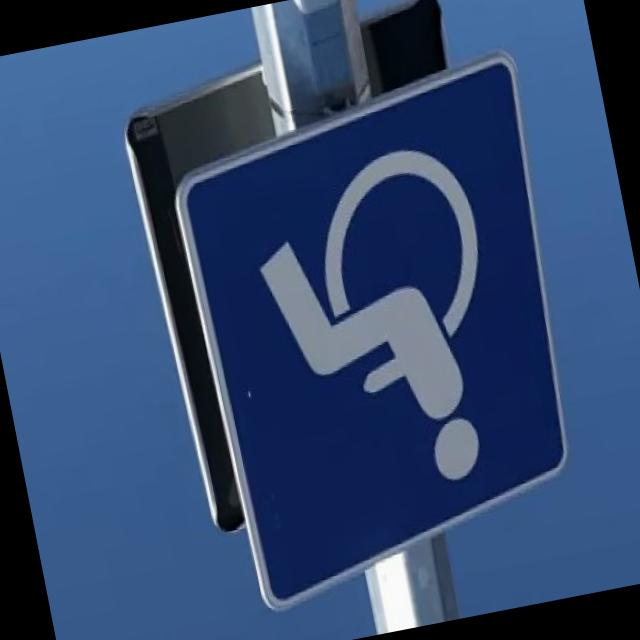symbol_of_access: (159, 49, 610, 618)
